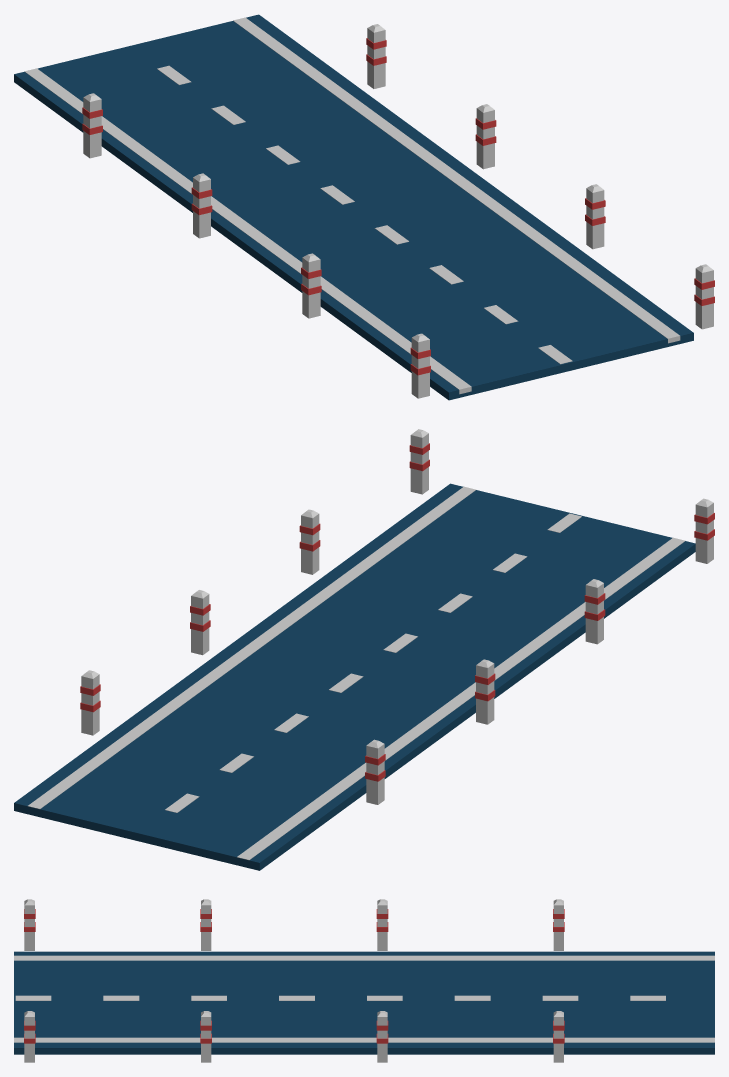
File: CUPIC_ROAD.obj
The picture shows the model from 3 angles, top to bottom: view 1: azimuth 30°, elevation 25°; view 2: azimuth 150°, elevation 25°; view 3: azimuth 270°, elevation 25°; orthographic projection. The views are drawn at different scales.
Bounding box in the file's own units: 368 × 74.43 × 934.
1 material, 1 textured.
